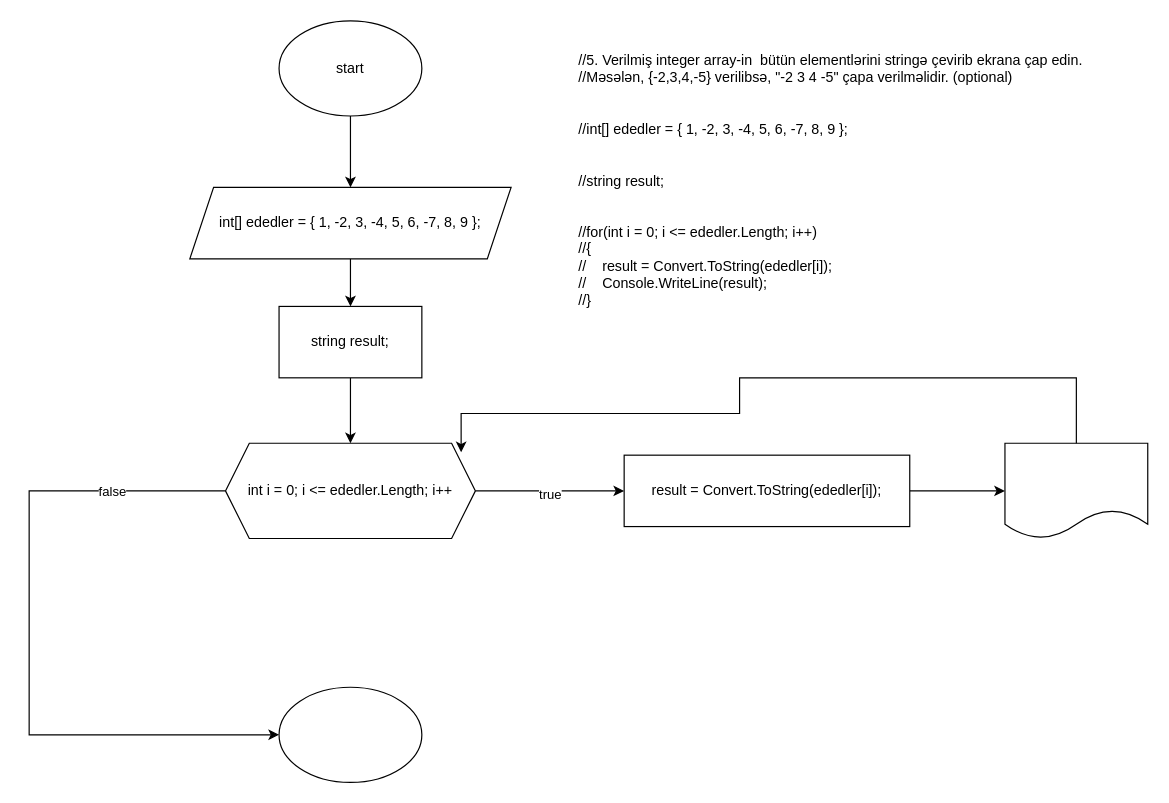
The diagram is 1169 pixels wide and 803 high, and some of its shapes have lost their labels. The centre of each missing label's shape, as x and y in pixels:
end: the point at 350,734
result: the point at 1076,490
